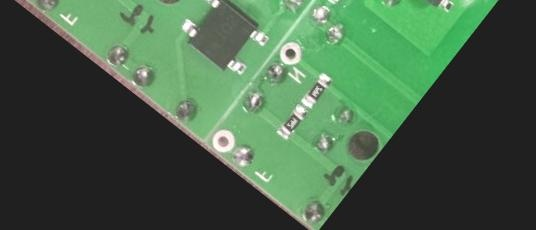chip-resistor: (298, 70, 335, 111), (273, 102, 310, 143)
ic: (171, 0, 275, 83)
